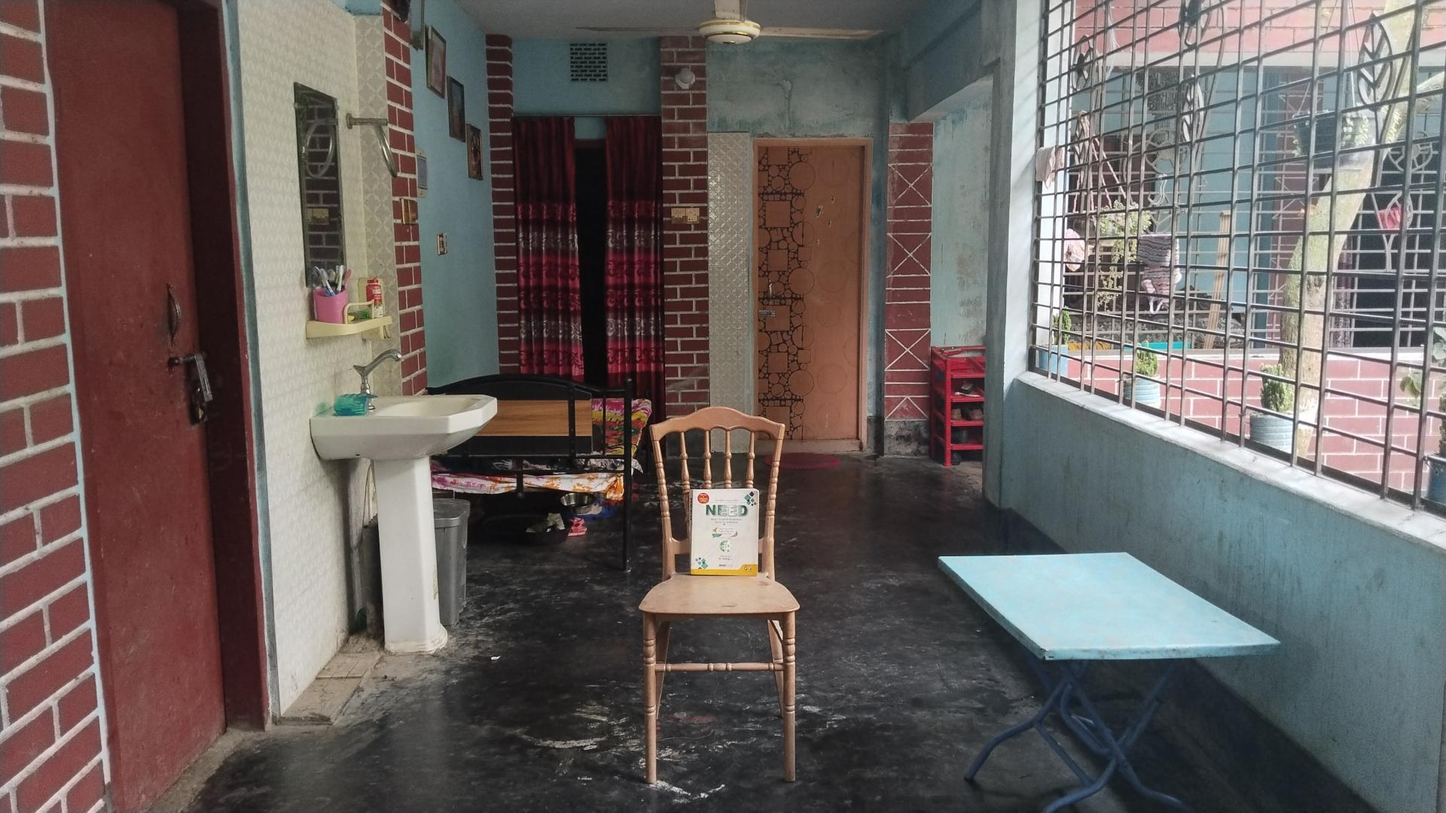Book: (689, 489, 759, 575)
Chair: (646, 408, 797, 788)
Door: (748, 142, 859, 448)
Table: (940, 550, 1290, 813)
